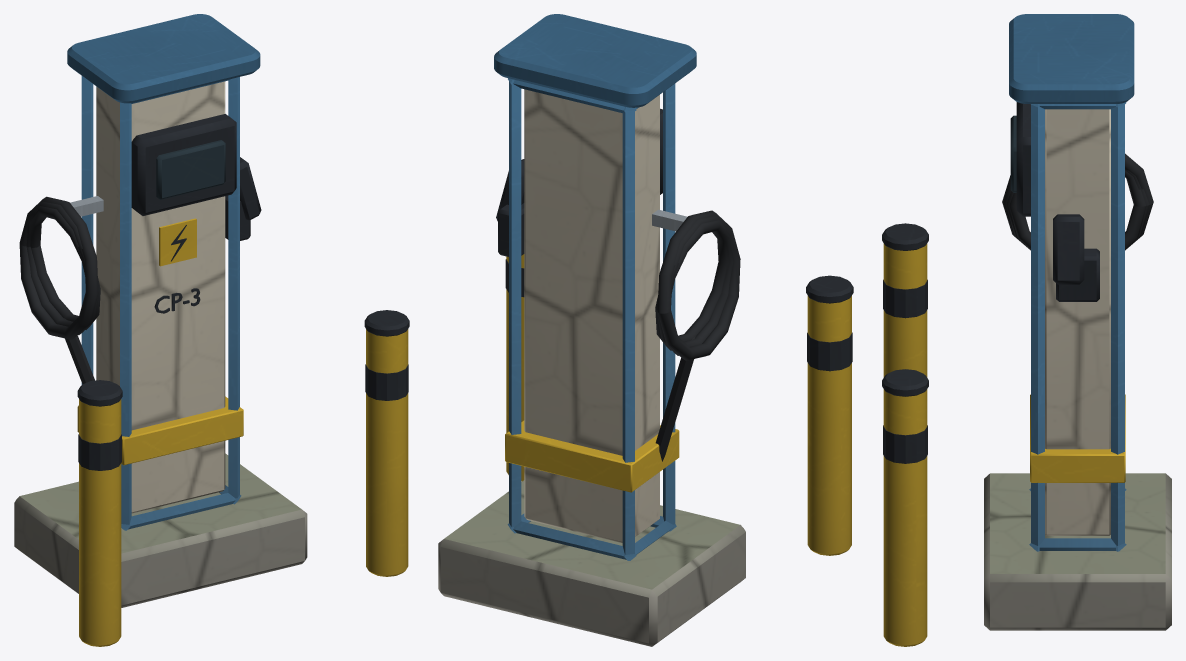
Rendered from charging_post.glb.
3 views of the same model, side by side, from view 1: azimuth 30°, elevation 25°; view 2: azimuth 150°, elevation 25°; view 3: azimuth 270°, elevation 25° (orthographic). The views are drawn at different scales.
Visible parts, largest first — view 1: charging_post.001; view 2: charging_post.001; view 3: charging_post.001.
Boxes of the visible parts, x1,y1,x2,y2 form: charging_post.001: (14, 14, 409, 646); charging_post.001: (438, 14, 853, 646); charging_post.001: (882, 14, 1171, 646).
Bounding box in the file's own units: 1.25 × 1.87 × 0.925.
Materials: 10 (10 with a texture image).
